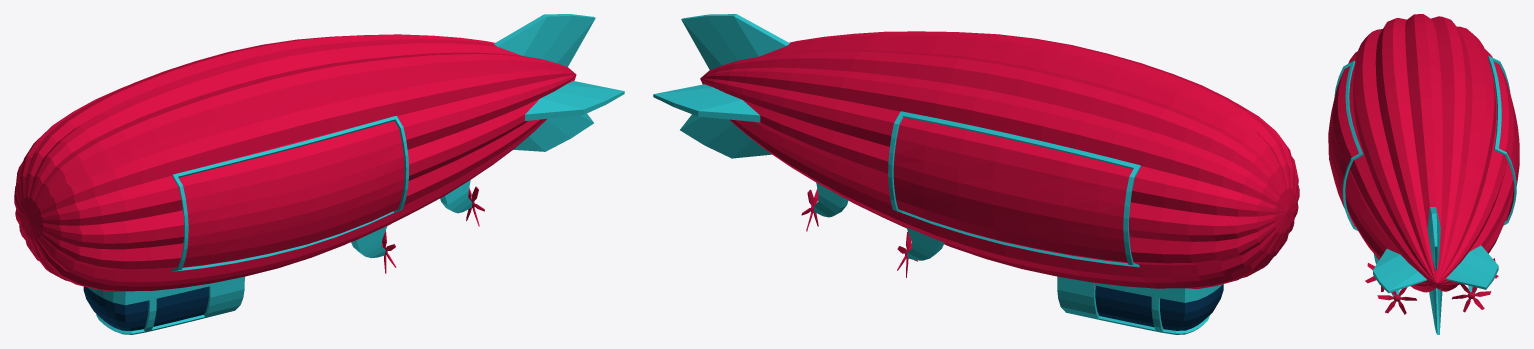
Rendered from blimp.glb.
The picture shows the model from 3 angles, left to right: view 1: azimuth 30°, elevation 25°; view 2: azimuth 150°, elevation 25°; view 3: azimuth 270°, elevation 25°; orthographic projection. The views are drawn at different scales.
Visible parts, largest first — view 1: node_id16, mesh_id20, node_id27, mesh_id32, mesh_id30, node_id23, node_id14; view 2: node_id16, mesh_id20, node_id27, node_id25, mesh_id32, mesh_id30, node_id14; view 3: node_id16, node_id27, mesh_id20, node_id25, node_id23, node_id12, node_id10.
Part boxes in pixels (x1,y1,x2,y2): node_id16: (14,34,576,291); mesh_id20: (179,121,404,267); node_id27: (494,14,624,151); mesh_id32: (83,286,208,330); mesh_id30: (88,276,244,334); node_id23: (171,115,408,271); node_id14: (351,180,472,258); node_id16: (700,31,1299,289); mesh_id20: (893,117,1132,263); node_id27: (653,14,789,158); node_id25: (888,111,1140,267); mesh_id32: (1095,284,1223,330); mesh_id30: (1057,276,1222,334); node_id14: (814,183,944,260); node_id16: (1345,14,1514,292); node_id27: (1372,207,1498,334); mesh_id20: (1328,61,1519,226); node_id25: (1488,56,1516,225); node_id23: (1334,60,1363,230); node_id12: (1452,284,1491,312); node_id10: (1377,287,1417,314).
Bounding box in the file's own units: 0.4992 × 0.1905 × 0.1723.
15 materials, 15 textured.
